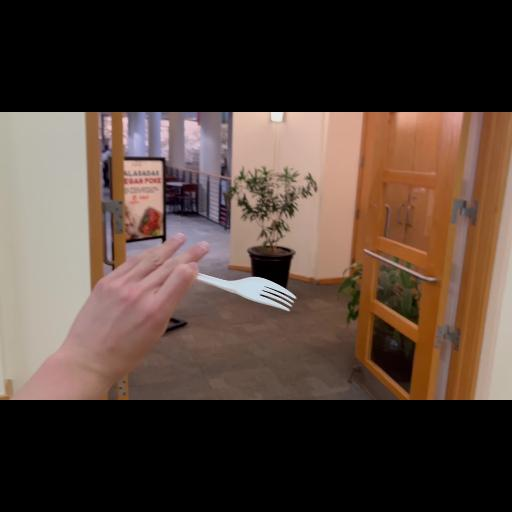utensil: (154, 272, 300, 312)
